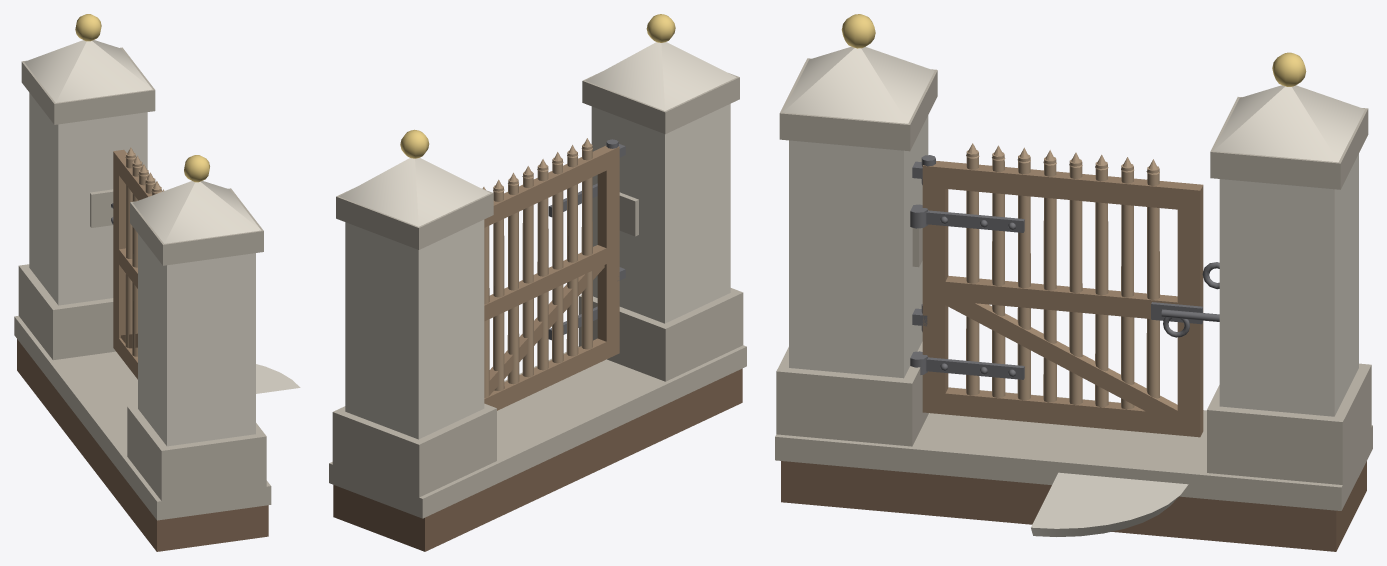
The model's file is south_indian_village_small_boundary_gate.glb.
The picture shows the model from 3 angles, left to right: view 1: azimuth 30°, elevation 25°; view 2: azimuth 150°, elevation 25°; view 3: azimuth 270°, elevation 25°; orthographic projection. The views are drawn at different scales.
Parts seen in each view (by area): view 1: Gatepost_Left, Gatepost_Right, Granite_Threshold_Step, Gate_Subterranean_Skirt, Leaf_Structure; view 2: Gatepost_Right, Gatepost_Left, Leaf_Structure, Granite_Threshold_Step, Gate_Subterranean_Skirt; view 3: Gatepost_Right, Leaf_Structure, Gatepost_Left, Granite_Threshold_Step, Gate_Subterranean_Skirt.
Part boxes in pixels (box(x1,y1,x2,y2)): Gatepost_Left: box(127, 155, 266, 500); Gatepost_Right: box(18, 14, 155, 360); Granite_Threshold_Step: box(14, 316, 300, 520); Gate_Subterranean_Skirt: box(17, 339, 268, 551); Leaf_Structure: box(113, 147, 164, 379); Gatepost_Right: box(332, 129, 496, 497); Gatepost_Left: box(579, 14, 743, 381); Leaf_Structure: box(482, 138, 619, 410); Granite_Threshold_Step: box(329, 345, 746, 518); Gate_Subterranean_Skirt: box(333, 368, 742, 551); Gatepost_Right: box(1202, 52, 1371, 484); Leaf_Structure: box(910, 143, 1219, 437); Gatepost_Left: box(776, 14, 937, 446); Granite_Threshold_Step: box(775, 387, 1372, 536); Gate_Subterranean_Skirt: box(781, 461, 1366, 551).
Bounding box in the file's own units: 1.18 × 1.76 × 2.06.
